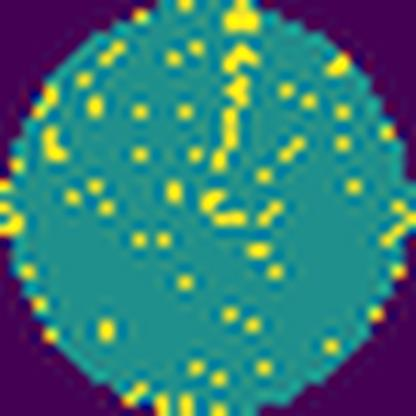Scratch: (210, 38, 266, 172)
